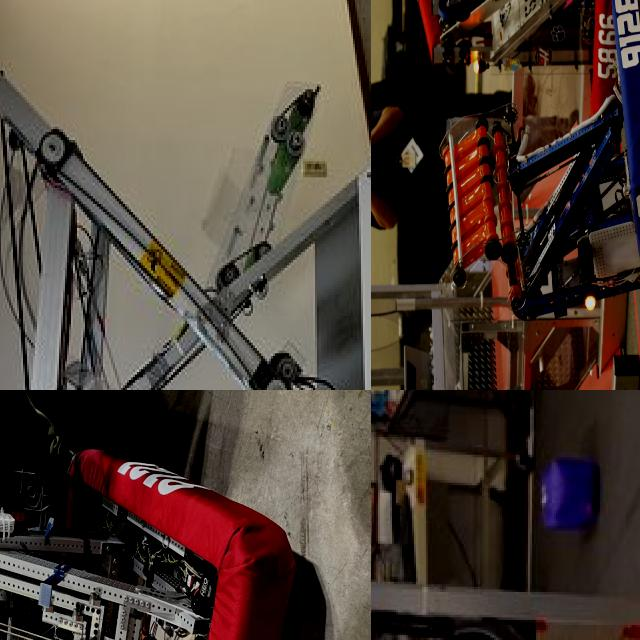FRC-Robots: (0, 26, 371, 390), (456, 3, 640, 390), (0, 436, 300, 640), (371, 453, 640, 640), (394, 0, 640, 110)
